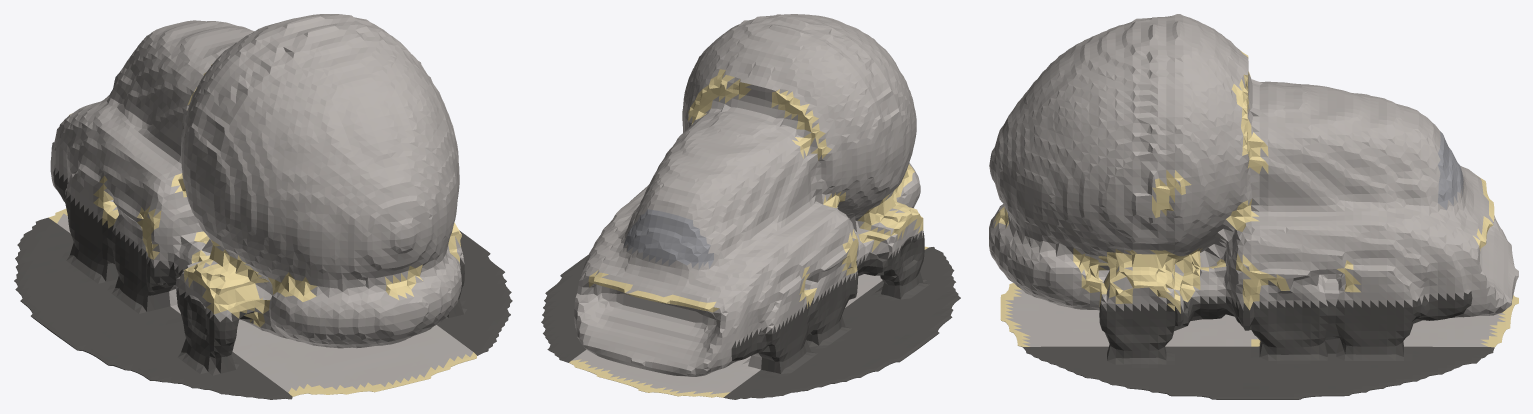
File: unit_collector.glb
The picture shows the model from 3 angles, left to right: view 1: azimuth 30°, elevation 25°; view 2: azimuth 150°, elevation 25°; view 3: azimuth 270°, elevation 25°; orthographic projection. The views are drawn at different scales.
Parts seen in each view (by area): view 1: Mesh_0.052; view 2: Mesh_0.052; view 3: Mesh_0.052.
Part boxes in pixels (box(x1,y1,x2,y2)): Mesh_0.052: box(14, 14, 512, 399); Mesh_0.052: box(541, 14, 960, 399); Mesh_0.052: box(989, 14, 1518, 399).
Bounding box in the file's own units: 2.5 × 1.75 × 3.
